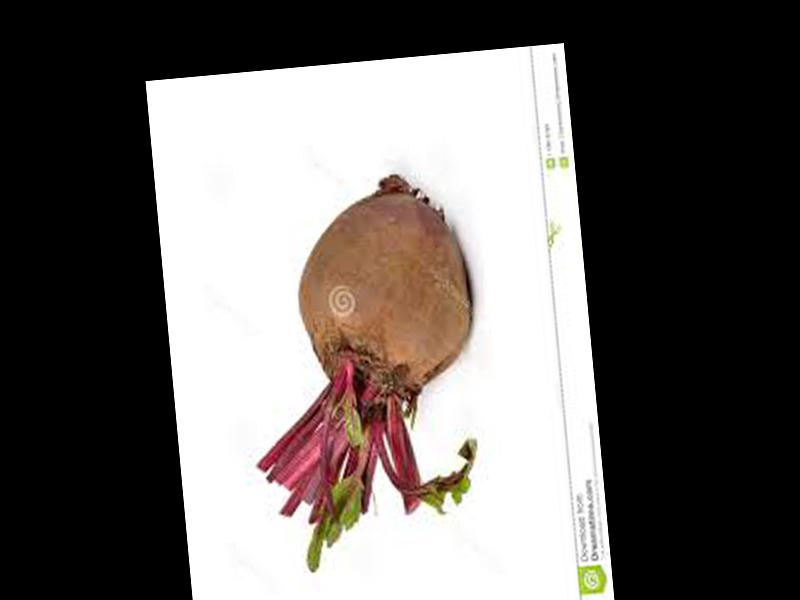Beet: (234, 168, 491, 573)
